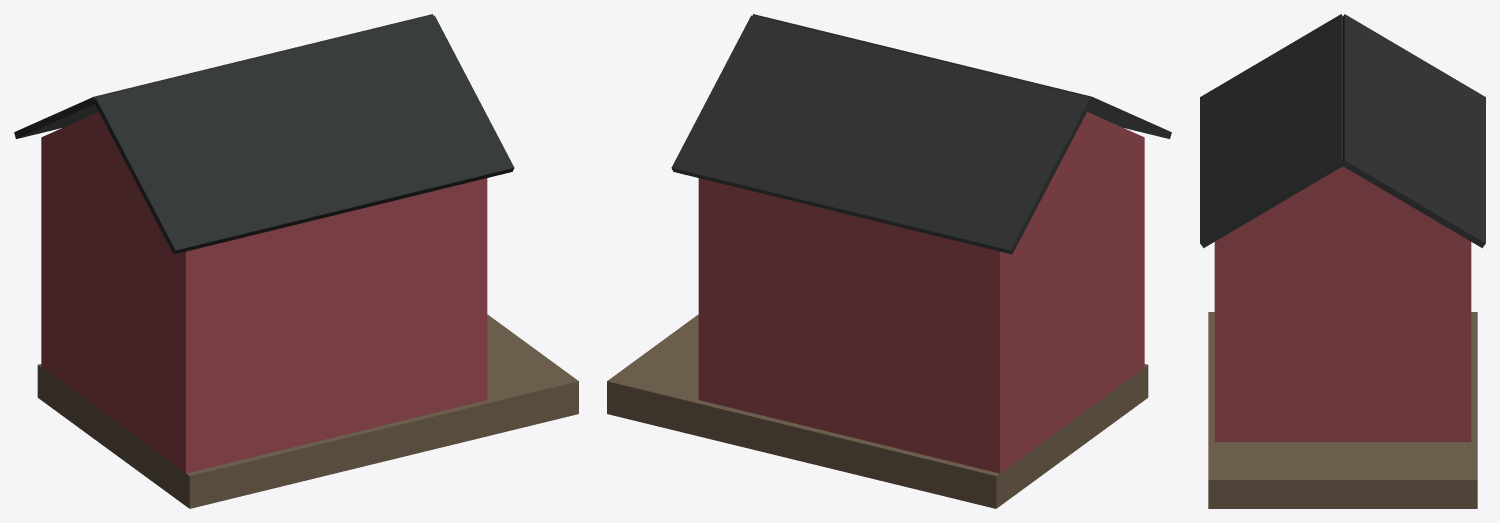
File: SM_Prop_coast_beachhut_2_LOD2.glb
3 views of the same model, side by side, from view 1: azimuth 30°, elevation 25°; view 2: azimuth 150°, elevation 25°; view 3: azimuth 270°, elevation 25° (orthographic). The views are drawn at different scales.
Visible parts, largest first — view 1: SM_Prop_coast_beachhut_2_LOD2; view 2: SM_Prop_coast_beachhut_2_LOD2; view 3: SM_Prop_coast_beachhut_2_LOD2.
Part boxes in pixels (box(x1,y1,x2,y2)): SM_Prop_coast_beachhut_2_LOD2: box(14, 14, 578, 508); SM_Prop_coast_beachhut_2_LOD2: box(607, 14, 1171, 508); SM_Prop_coast_beachhut_2_LOD2: box(1200, 14, 1485, 508).
Bounding box in the file's own units: 3.25 × 2.74 × 2.23.
